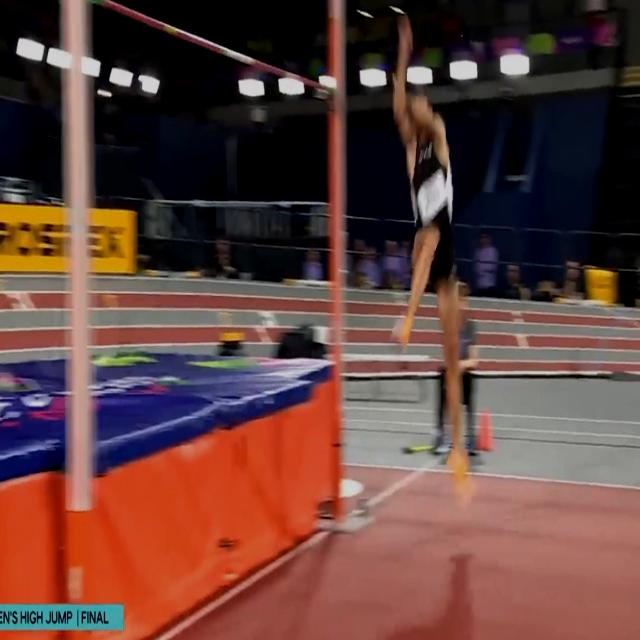jump: (388, 12, 473, 500)
